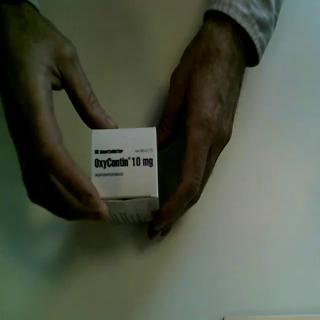oxycontin10mg: (90, 126, 161, 228)
